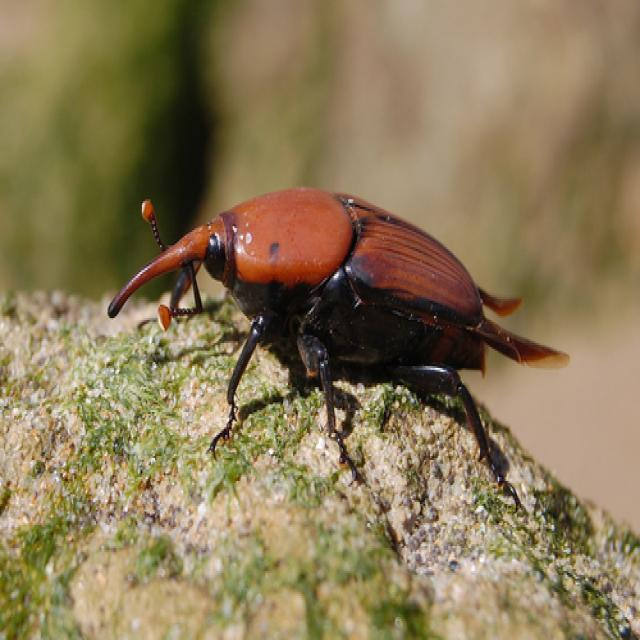Red-palm-weevil: (117, 191, 500, 374)
